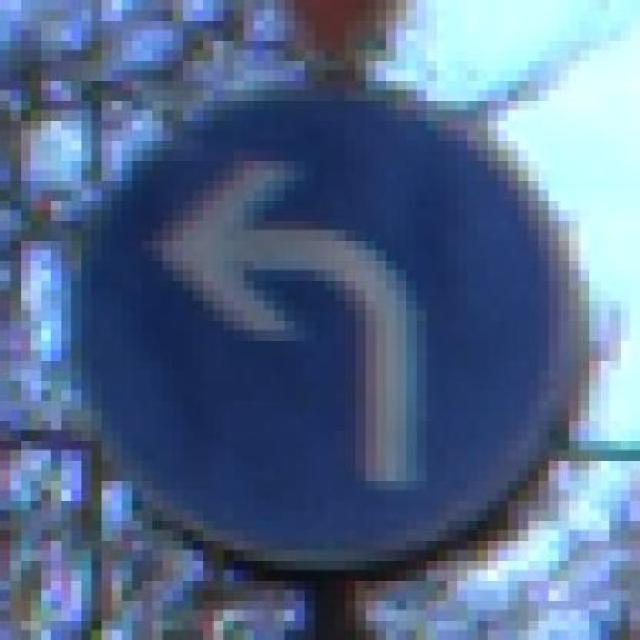Turn left ahead: (51, 60, 600, 580)
